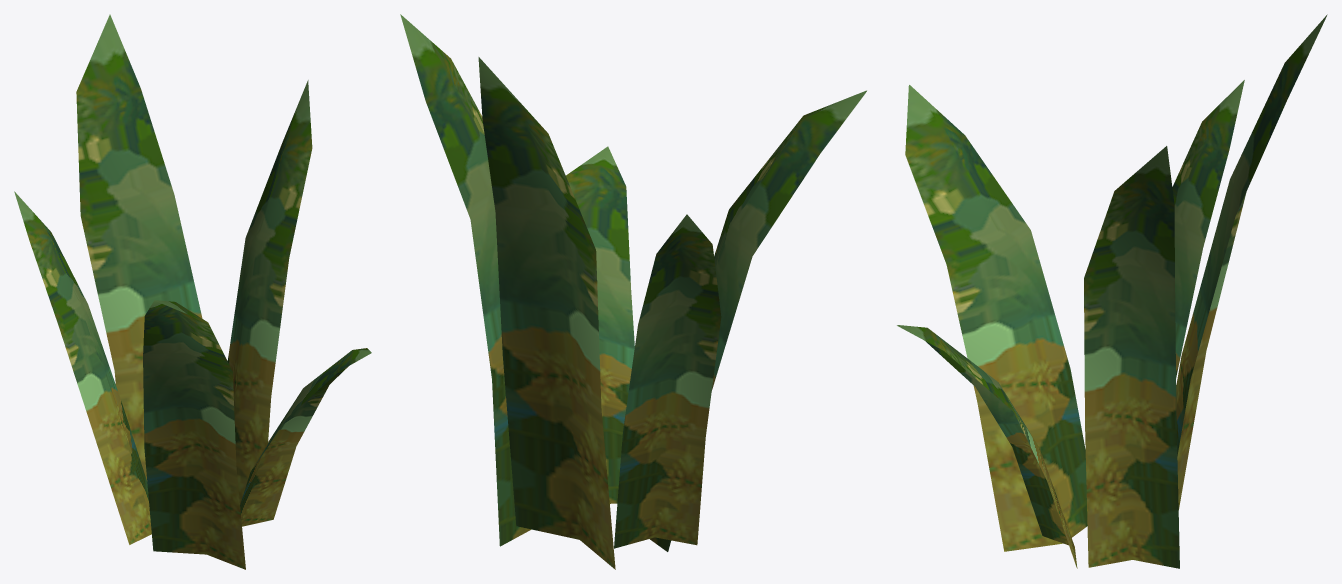
Rendered from s_autumn_grass_4.fbx.
The picture shows the model from 3 angles, left to right: view 1: azimuth 30°, elevation 25°; view 2: azimuth 150°, elevation 25°; view 3: azimuth 270°, elevation 25°; orthographic projection. The views are drawn at different scales.
Parts seen in each view (by area): view 1: s_autumn_grass_4; view 2: s_autumn_grass_4; view 3: s_autumn_grass_4.
Part boxes in pixels (x1=…): s_autumn_grass_4: x1=14, y1=14, x2=371, y2=569; s_autumn_grass_4: x1=400, y1=14, x2=866, y2=569; s_autumn_grass_4: x1=897, y1=14, x2=1327, y2=568.
Bounding box in the file's own units: 0.5105 × 0.8432 × 0.6123.
